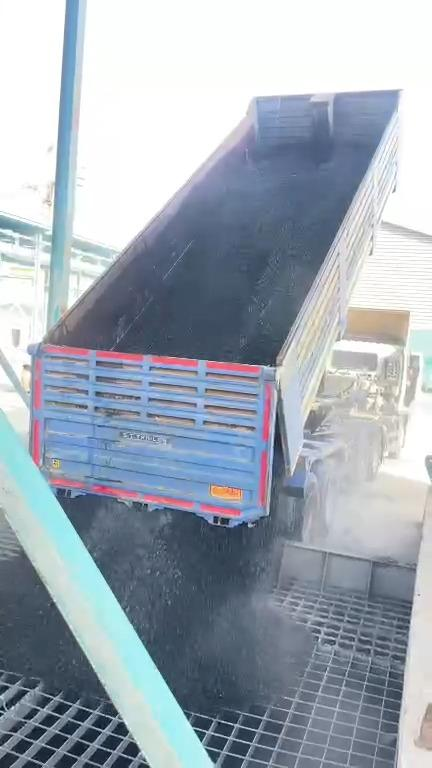gravel: (137, 144, 378, 363), (69, 497, 313, 712), (0, 555, 101, 694)
